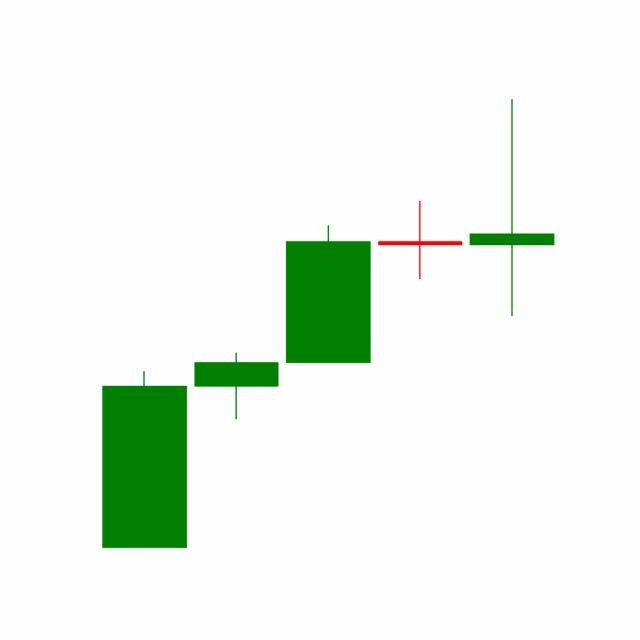Spinning Top: (374, 199, 468, 281)
